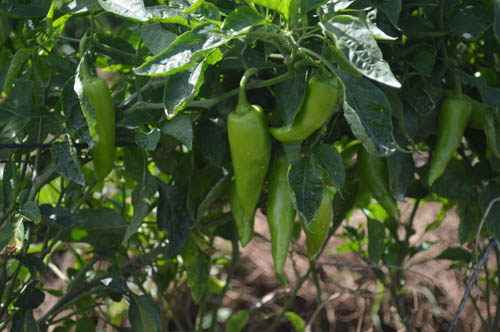ChiliPepper: (224, 110, 271, 253), (268, 75, 337, 153), (72, 79, 114, 183), (430, 96, 475, 192), (355, 143, 405, 228), (267, 154, 296, 277)
